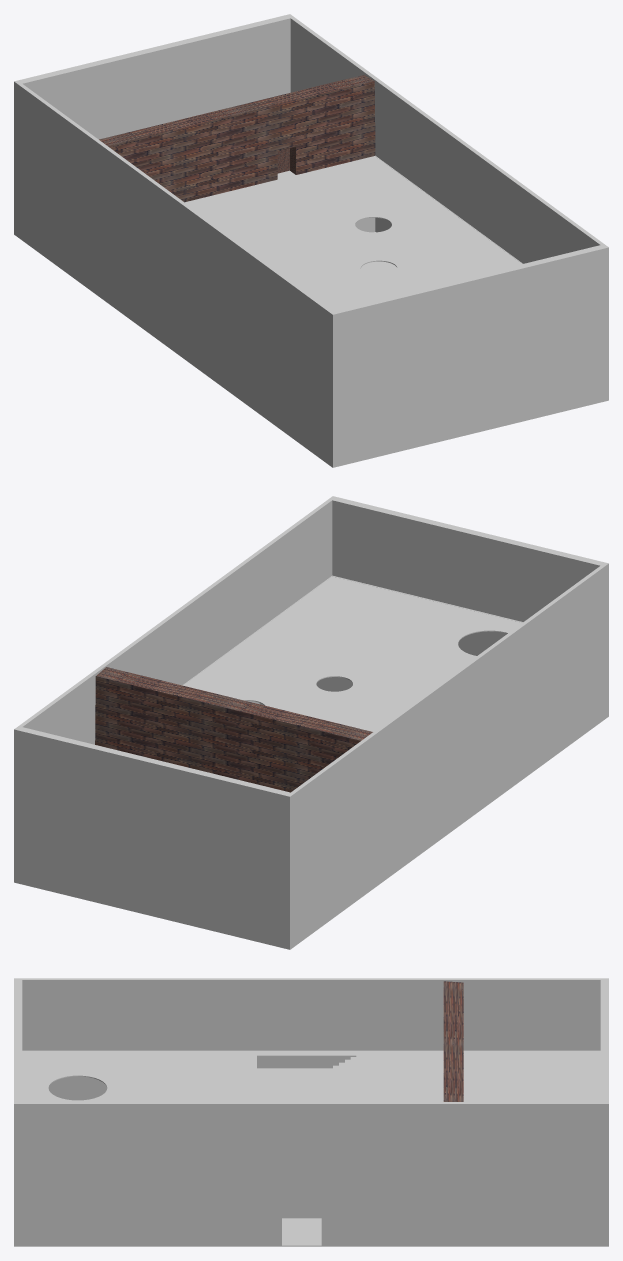
The model's file is School.fbx.
3 views of the same model, one above another, from view 1: azimuth 30°, elevation 25°; view 2: azimuth 150°, elevation 25°; view 3: azimuth 270°, elevation 25° (orthographic). The views are drawn at different scales.
Visible parts, largest first — view 1: SecondFloor, FirstFloor, ClassroomWall; view 2: SecondFloor, FirstFloor, ClassroomWall; view 3: SecondFloor, FirstFloor, ClassroomWall.
Part boxes in pixels (<box>): SecondFloor: <box>14,14,608,391</box>; FirstFloor: <box>14,155,608,467</box>; ClassroomWall: <box>99,75,375,202</box>; SecondFloor: <box>14,496,608,872</box>; FirstFloor: <box>14,575,608,949</box>; ClassroomWall: <box>95,667,372,792</box>; SecondFloor: <box>14,978,608,1175</box>; FirstFloor: <box>14,1050,608,1246</box>; ClassroomWall: <box>443,981,463,1101</box>.
Bounding box in the file's own units: 3000 × 1590 × 6000.
